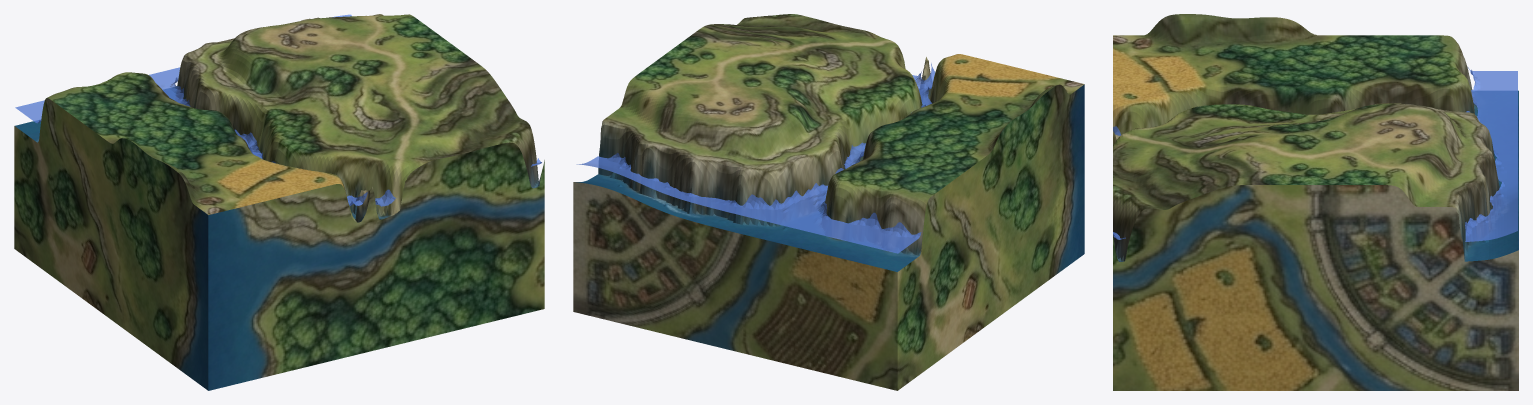
File: northern_fields_chunk2.glb
3 views of the same model, side by side, from view 1: azimuth 30°, elevation 25°; view 2: azimuth 150°, elevation 25°; view 3: azimuth 270°, elevation 25° (orthographic). The views are drawn at different scales.
Parts seen in each view (by area): view 1: TerrainMesh, WaterMesh; view 2: TerrainMesh, WaterMesh; view 3: TerrainMesh, WaterMesh.
Boxes of the visible parts, x1,y1,x2,y2 form: TerrainMesh: (14,14,544,390); WaterMesh: (15,14,541,206); TerrainMesh: (573,14,1084,390); WaterMesh: (576,63,935,253); TerrainMesh: (1113,14,1518,390); WaterMesh: (1113,67,1517,241).
Bounding box in the file's own units: 100 × 56 × 100.
Materials: 2 (1 with a texture image).
